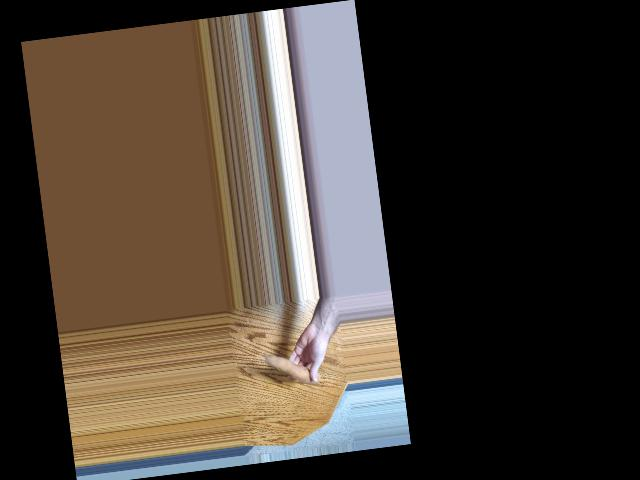sweet_potato: (264, 348, 322, 390)
